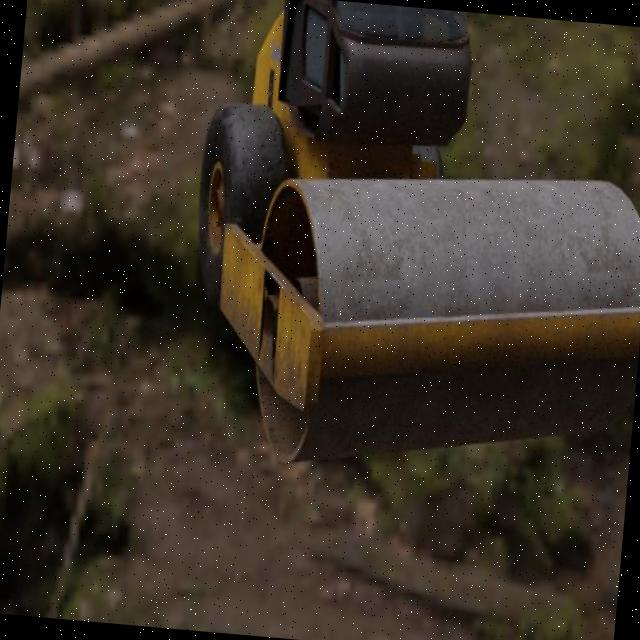Roller: (174, 0, 640, 493)
